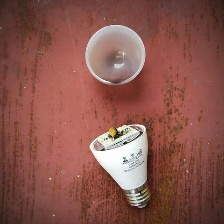light_bulb: (84, 117, 157, 214)
